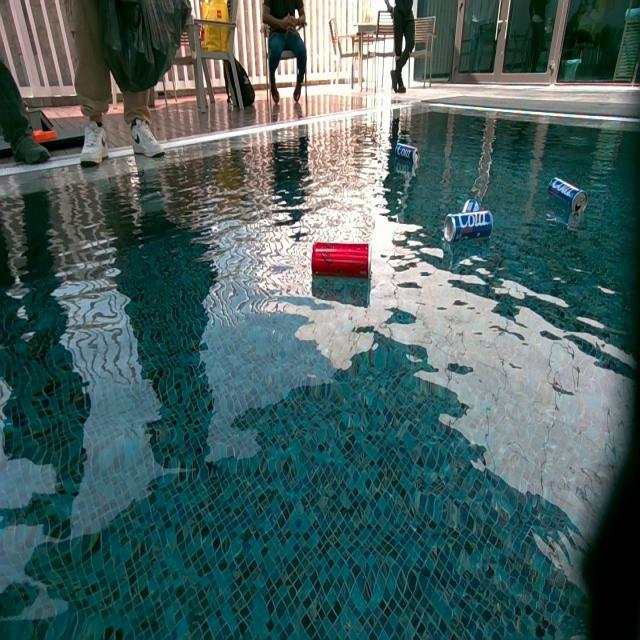Cans: (313, 243, 372, 281), (548, 178, 588, 232), (443, 212, 492, 245), (393, 144, 419, 164), (461, 198, 480, 212)
